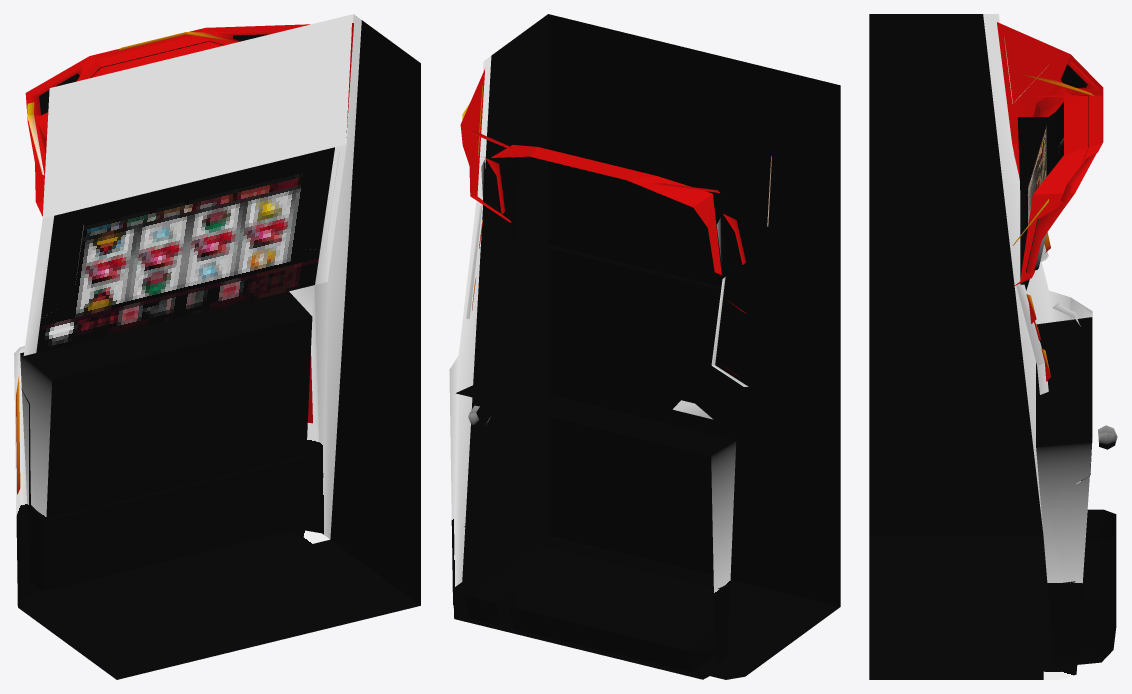
File: ps2_save-icons_yamasadigiworldsppachislotridgeracer.glb
3 views of the same model, side by side, from view 1: azimuth 30°, elevation 25°; view 2: azimuth 150°, elevation 25°; view 3: azimuth 270°, elevation 25° (orthographic). The views are drawn at different scales.
Parts seen in each view (by area): view 1: rrs.ico; view 2: rrs.ico; view 3: rrs.ico.
Part boxes in pixels (box(x1,y1,x2,y2)): rrs.ico: box(14, 14, 420, 679); rrs.ico: box(449, 14, 840, 679); rrs.ico: box(869, 14, 1117, 679).
Bounding box in the file's own units: 2.87 × 4.89 × 2.1.
1 material, 1 textured.
